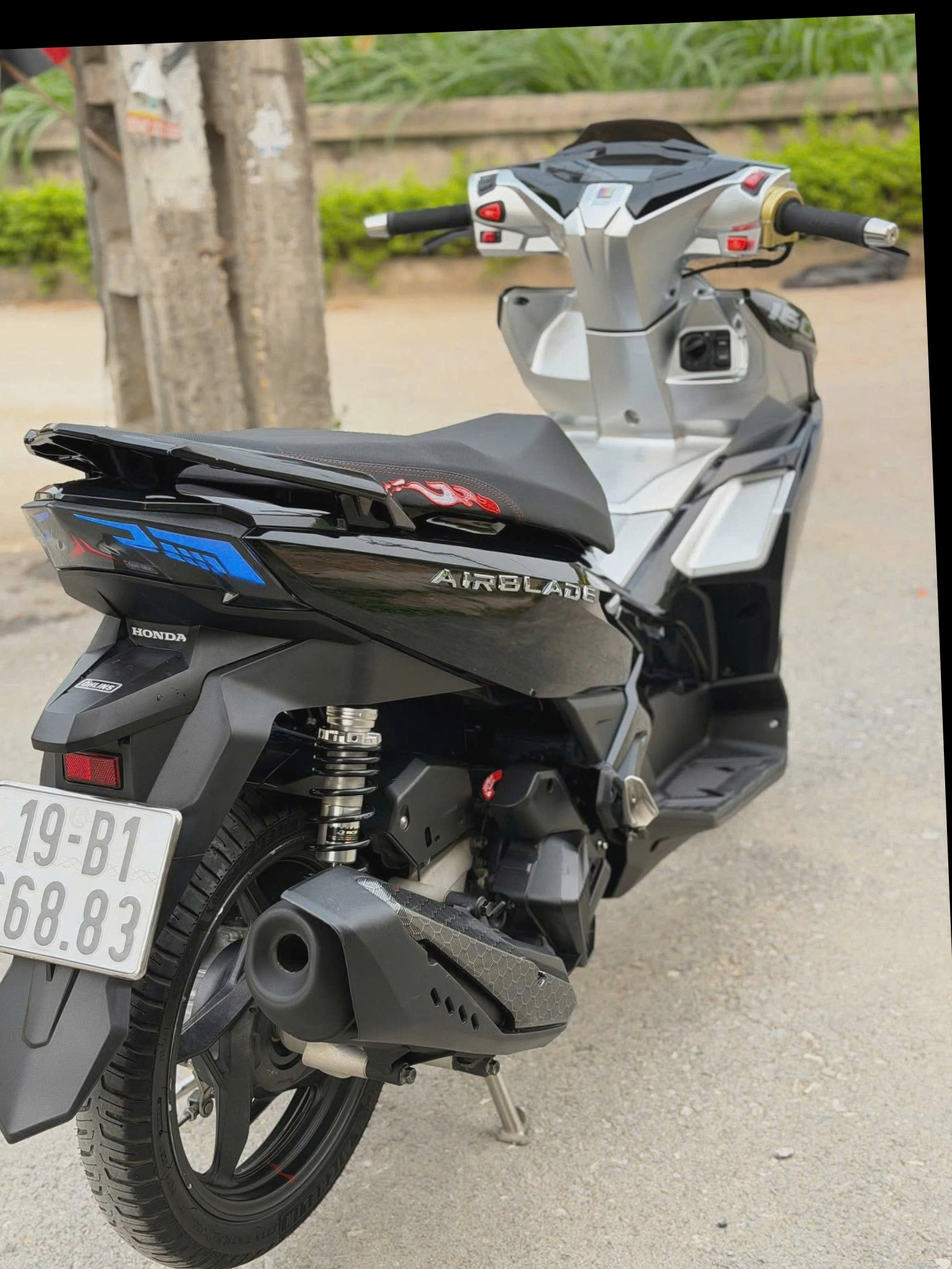Bien-so: (0, 727, 219, 948)
